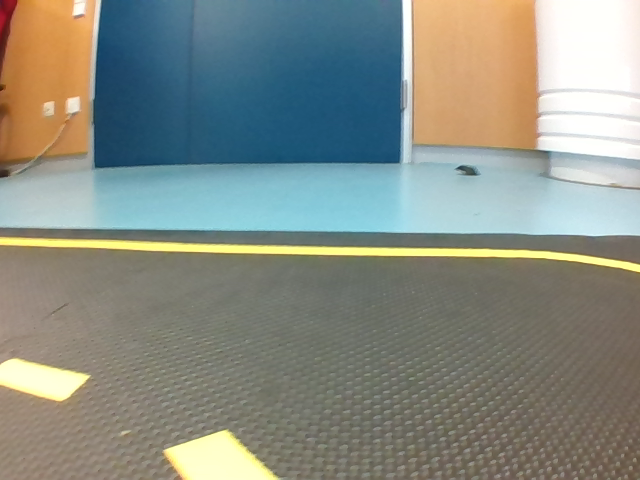stop: (48, 110, 80, 143)
